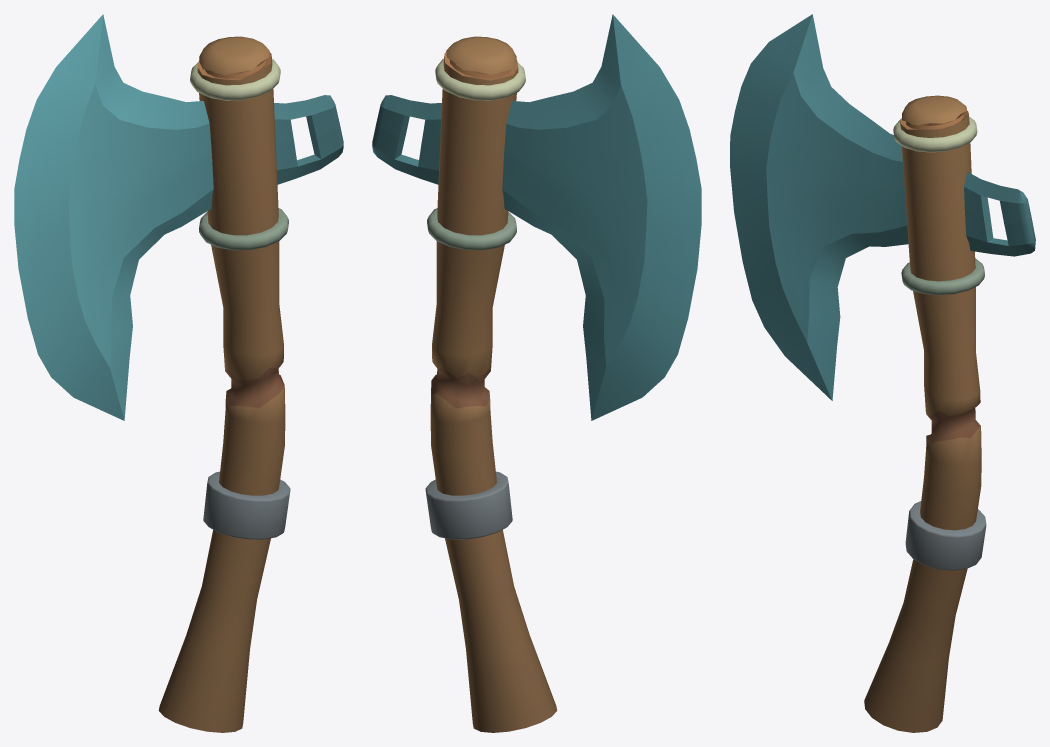
Rendered from Axe_Level_02.fbx.
3 renders of one model, left to right at view 1: azimuth 30°, elevation 25°; view 2: azimuth 150°, elevation 25°; view 3: azimuth 330°, elevation 25°, orthographic. The views are drawn at different scales.
Visible parts, largest first — view 1: Axe_Level_02; view 2: Axe_Level_02; view 3: Axe_Level_02.
Boxes of the visible parts, <box> form: Axe_Level_02: <box>14,14,343,732</box>; Axe_Level_02: <box>372,14,701,732</box>; Axe_Level_02: <box>730,14,1035,732</box>.
Bounding box in the file's own units: 0.5987 × 1.28 × 0.1442.
